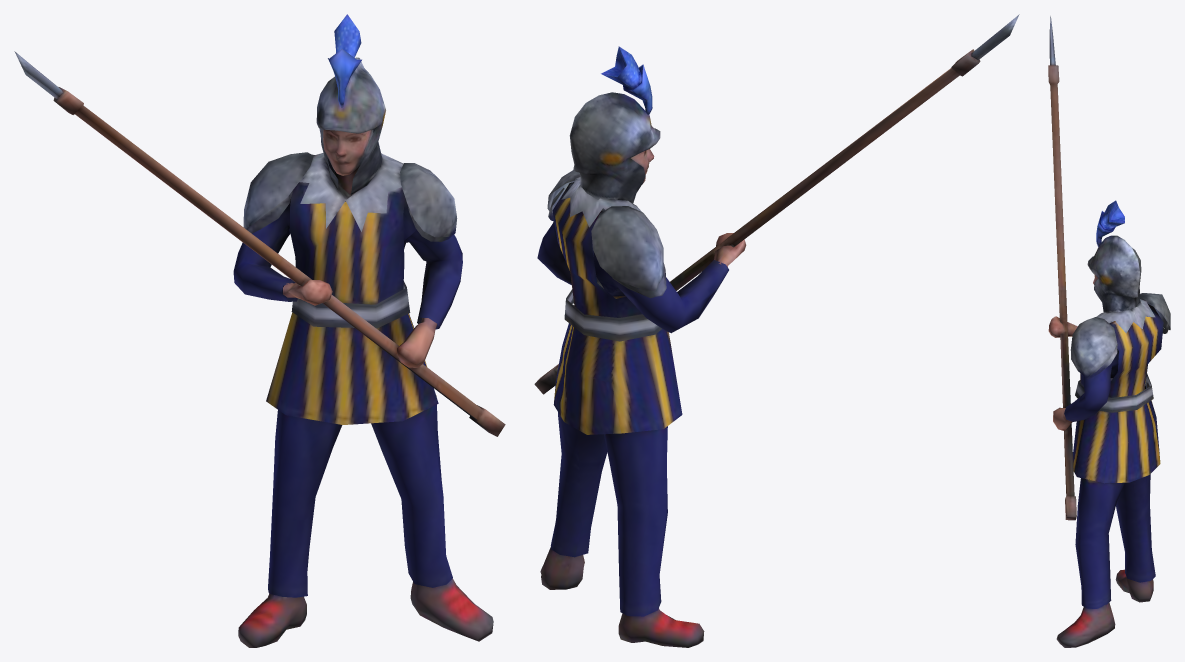
File: Pikemen.glb
3 views of the same model, side by side, from view 1: azimuth 30°, elevation 25°; view 2: azimuth 150°, elevation 25°; view 3: azimuth 270°, elevation 25° (orthographic). The views are drawn at different scales.
Parts seen in each view (by area): view 1: Sphere.004; view 2: Sphere.004; view 3: Sphere.004.
Part boxes in pixels (bbox=[...]): Sphere.004: bbox=[14, 14, 505, 647]; Sphere.004: bbox=[534, 14, 1019, 647]; Sphere.004: bbox=[1048, 16, 1170, 647].
Bounding box in the file's own units: 1.72 × 2.32 × 0.5412.
Materials: 1 (1 with a texture image).
